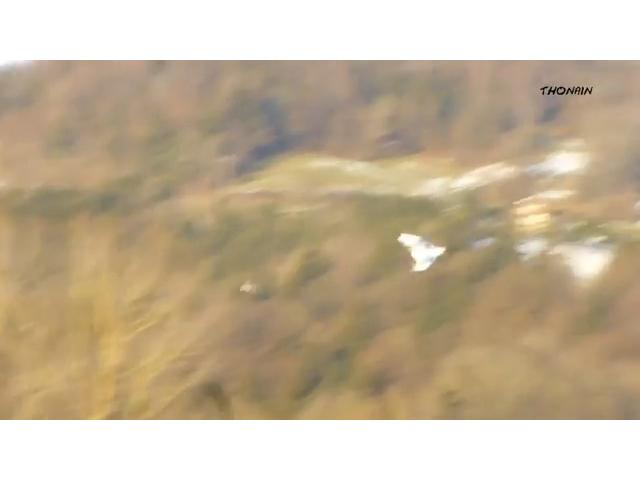Anti-Drone: (399, 232, 445, 272)
